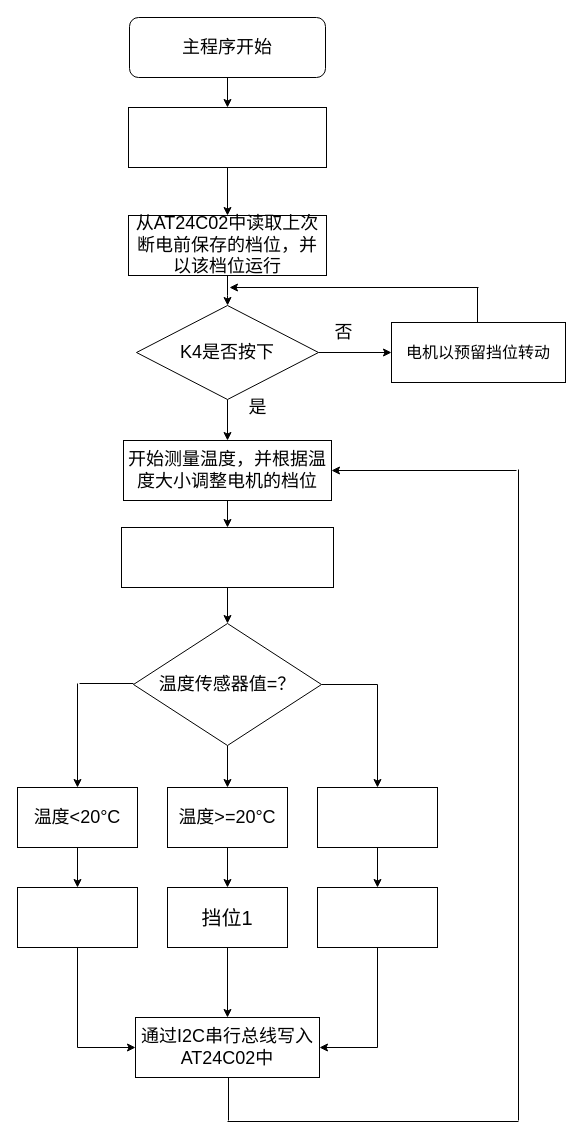
Some shapes in this 583 by 1140 pixel diagram are drawn without their labels. The centre of each missing label's shape, as x and y in pixels:
"挡位0" goes at point (77, 917).
"挡位2" goes at point (377, 917).
"温度>=26°C" goes at point (377, 817).
"程序初始化 （定时器、外部中断、DS18B20）" goes at point (227, 137).
"通过LED数码管动态显示温度和电机档位" goes at point (227, 557).
